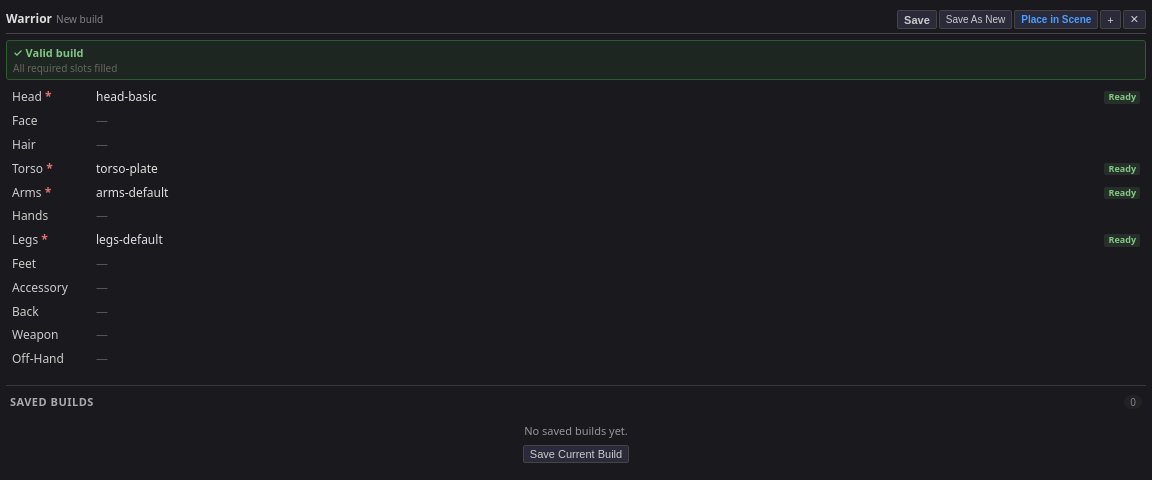
Test case: build lifecycle › clear button requires confirmation
The width and height of the screenshot is (1152, 480).
# First click shows confirm state
Click the button with test id "char-clear-btn" at (1134, 20), box x1=1123 y1=10 x2=1146 y2=29
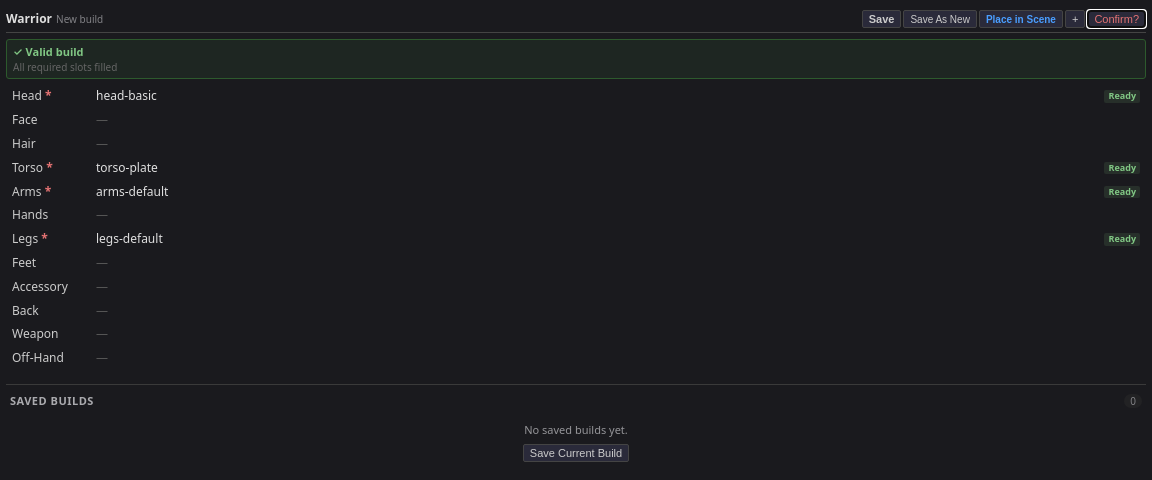
Check: the button with test id "char-clear-btn" reads "Confirm?"
# Second click actually clears
Click the button with test id "char-clear-btn" at (1117, 19), box x1=1087 y1=10 x2=1146 y2=28
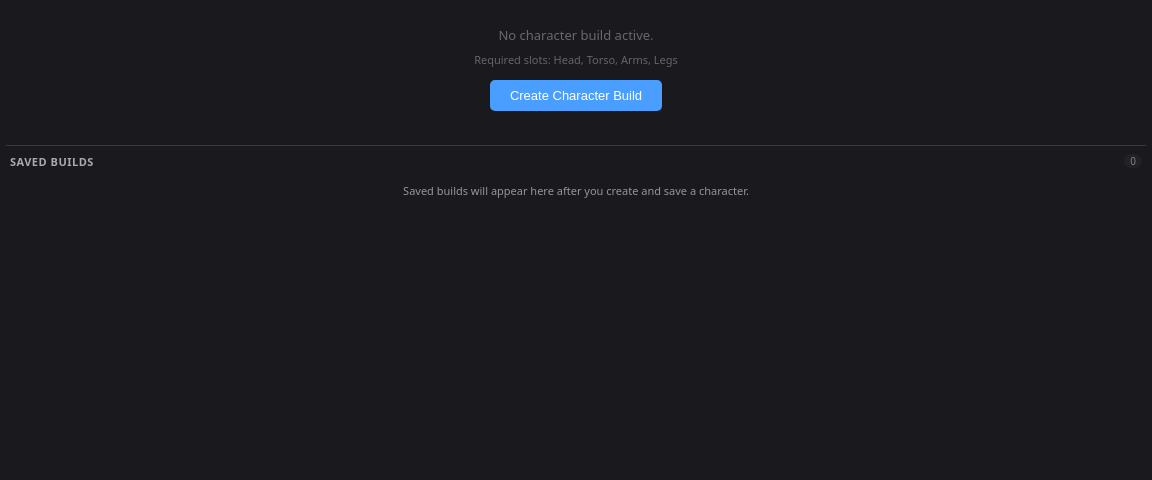
Check: the text "No character build active." is shown, box x1=498 y1=26 x2=654 y2=44
